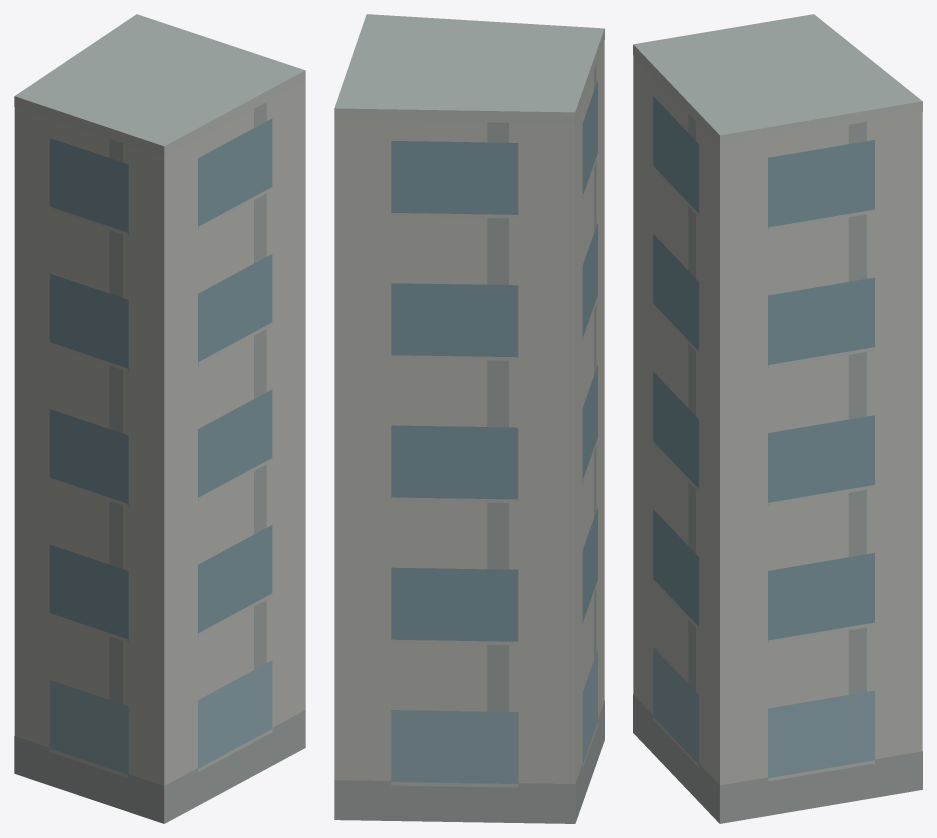
File: survey-upis-32907009.glb
3 renders of one model, left to right at view 1: azimuth 30°, elevation 25°; view 2: azimuth 150°, elevation 25°; view 3: azimuth 270°, elevation 25°, orthographic. The views are drawn at different scales.
Visible parts, largest first — view 1: survey-upis-32907009.tmp; view 2: survey-upis-32907009.tmp; view 3: survey-upis-32907009.tmp.
Boxes of the visible parts, x1=… form: survey-upis-32907009.tmp: x1=14, y1=14, x2=305, y2=823; survey-upis-32907009.tmp: x1=334, y1=14, x2=604, y2=823; survey-upis-32907009.tmp: x1=633, y1=14, x2=922, y2=823.
Size of the model in its own units: 5.78 by 15.25 by 5.82.
